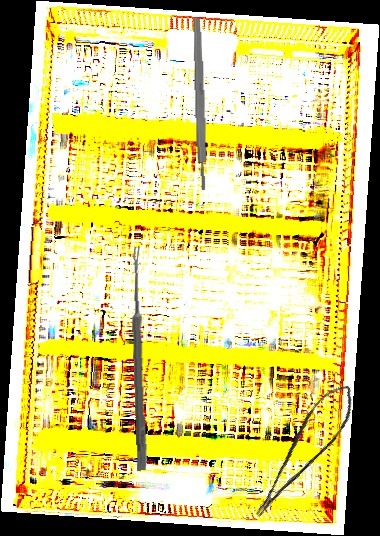Micro Scissor: (232, 376, 370, 521)
Scalpel Handle: (192, 17, 208, 191)
Surgical Spoon: (129, 246, 149, 471)
